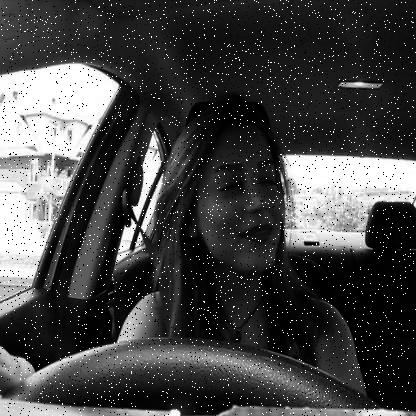seatbelt: (113, 92, 296, 346)
